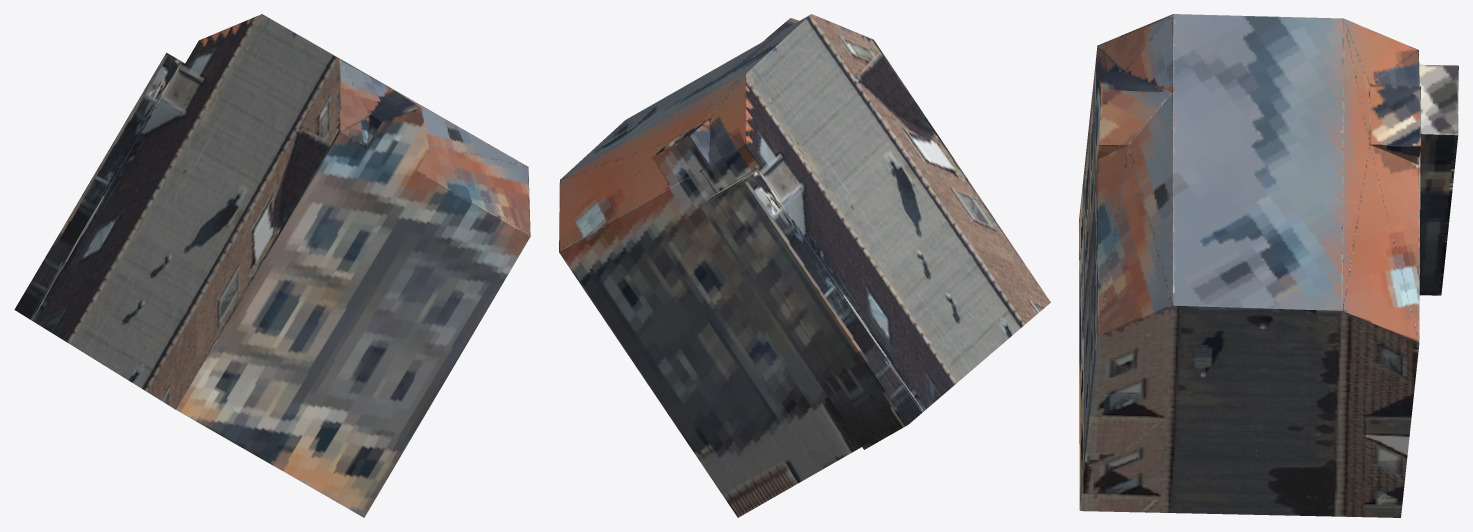
3 renders of one model, left to right at view 1: azimuth 30°, elevation 25°; view 2: azimuth 150°, elevation 25°; view 3: azimuth 270°, elevation 25°, orthographic. The views are drawn at different scales.
Visible parts, largest first — view 1: BAG_0599100000688727 (×4); view 2: BAG_0599100000688727 (×5); view 3: BAG_0599100000688727 (×6).
Part boxes in pixels (<box>): BAG_0599100000688727 (×4): <box>14,14,530,517</box>; BAG_0599100000688727 (×5): <box>559,14,1050,517</box>; BAG_0599100000688727 (×6): <box>1079,14,1458,517</box>.
Bounding box in the file's own units: 15.53 × 16.14 × 10.76.
8 materials, 8 textured.
